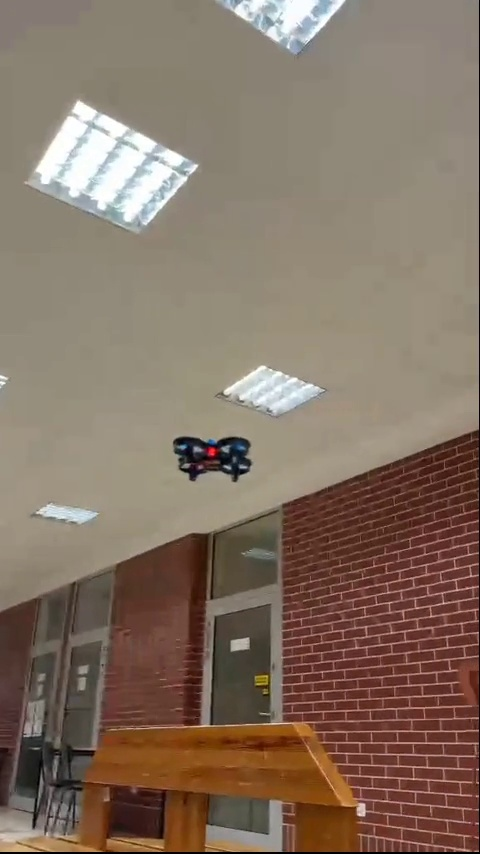drone: (169, 434, 254, 481)
